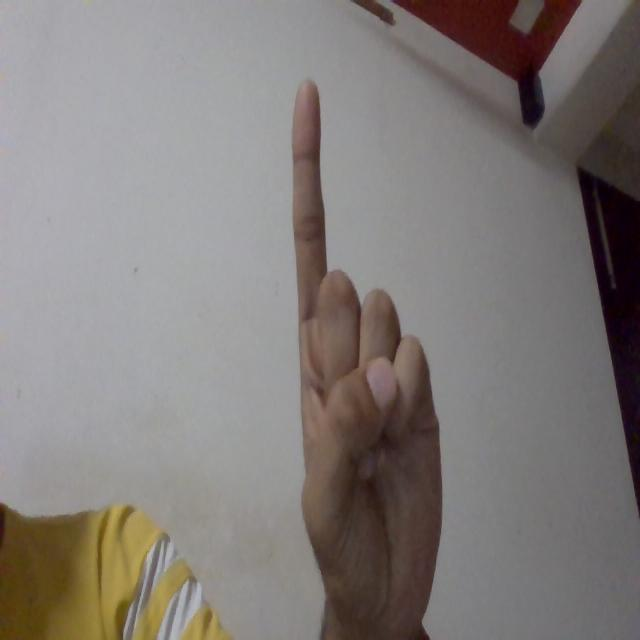Z: (272, 61, 518, 640)
